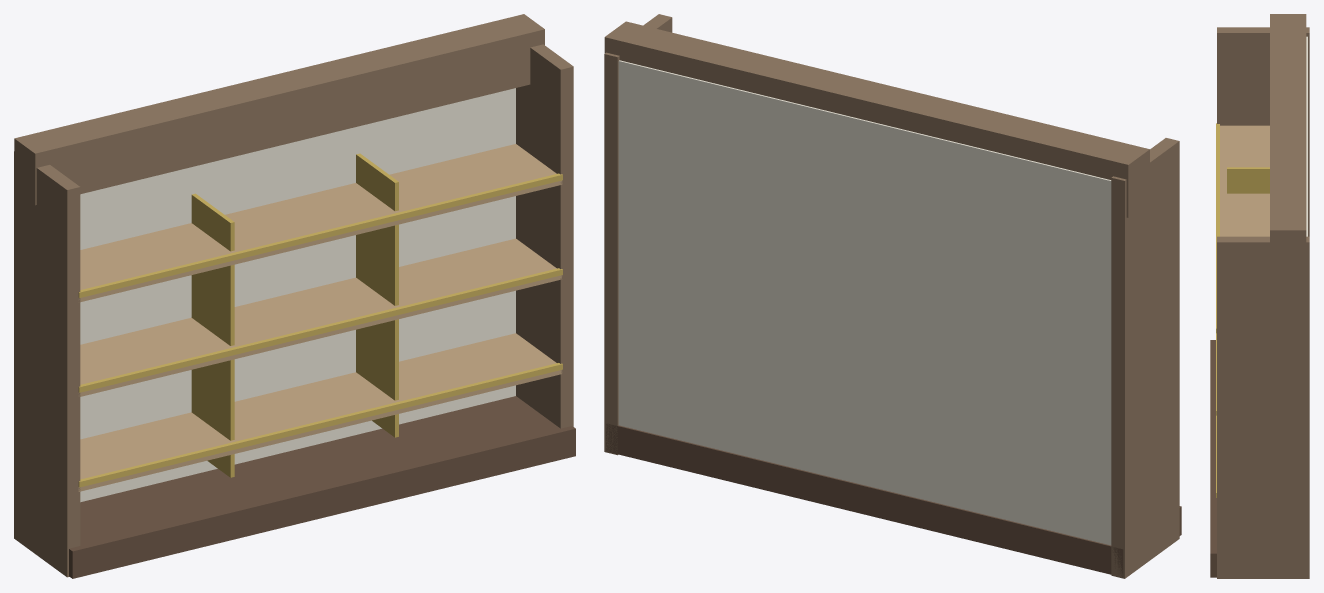
The model's file is ball_wall.glb.
3 renders of one model, left to right at view 1: azimuth 30°, elevation 25°; view 2: azimuth 150°, elevation 25°; view 3: azimuth 270°, elevation 25°, orthographic. The views are drawn at different scales.
Parts seen in each view (by area): view 1: ball_wall; view 2: ball_wall; view 3: ball_wall.
Boxes of the visible parts, <box> form: ball_wall: <box>14,14,575,578</box>; ball_wall: <box>604,14,1181,578</box>; ball_wall: <box>1210,14,1309,578</box>.
Size of the model in its own units: 3.1 by 2.33 by 0.6.
